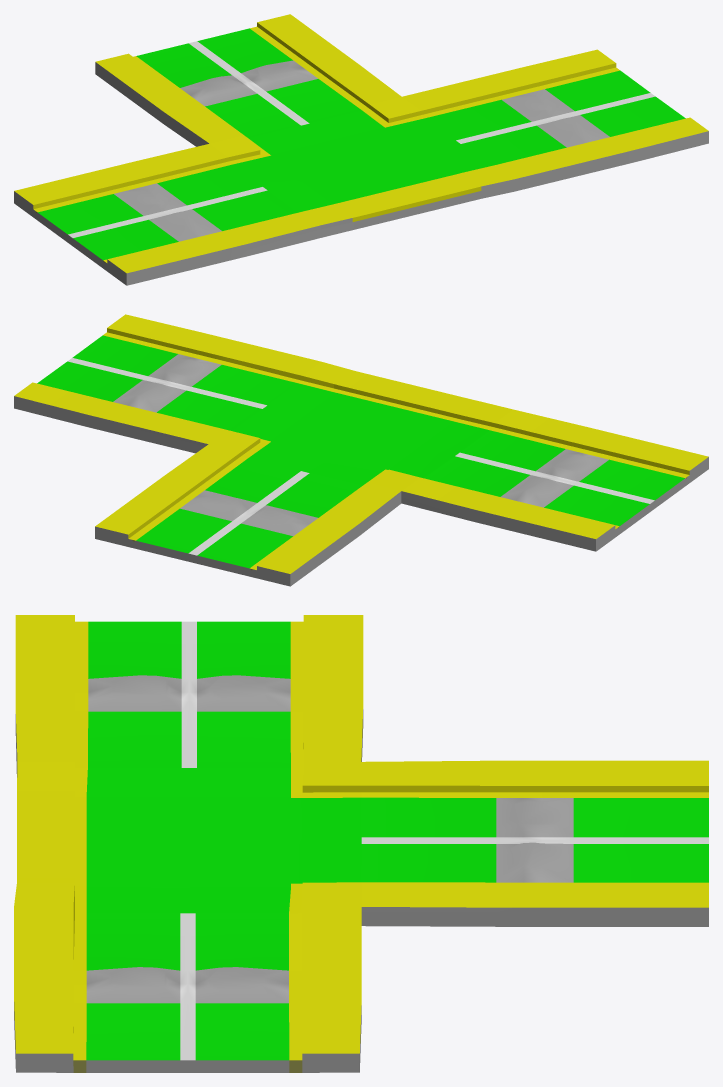
The model's file is Road Intersec.fbx.
3 renders of one model, top to bottom at view 1: azimuth 30°, elevation 25°; view 2: azimuth 150°, elevation 25°; view 3: azimuth 270°, elevation 25°, orthographic. The views are drawn at different scales.
Visible parts, largest first — view 1: pCube18; view 2: pCube18; view 3: pCube18.
Part boxes in pixels (x1,y1,x2,y2): pCube18: [14, 14, 708, 285]; pCube18: [14, 314, 708, 586]; pCube18: [14, 615, 708, 1072].
Bounding box in the file's own units: 74.69 × 1.53 × 50.02.
